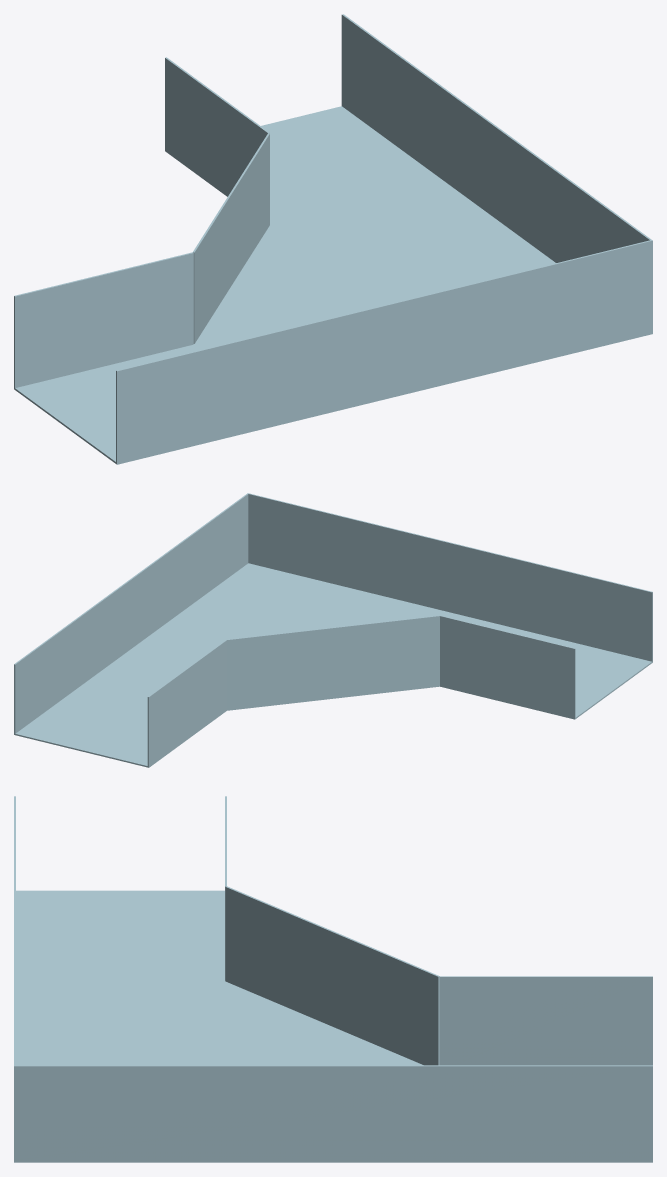
3 views of the same model, one above another, from view 1: azimuth 30°, elevation 25°; view 2: azimuth 150°, elevation 25°; view 3: azimuth 270°, elevation 25° (orthographic). The views are drawn at different scales.
Parts seen in each view (by area): view 1: L3-C16; view 2: L3-C16; view 3: L3-C16.
Part boxes in pixels (<box>): L3-C16: <box>14,14,652,464</box>; L3-C16: <box>14,493,652,767</box>; L3-C16: <box>14,796,652,1162</box>.
Bounding box in the file's own units: 0.6 × 0.1 × 0.6.
